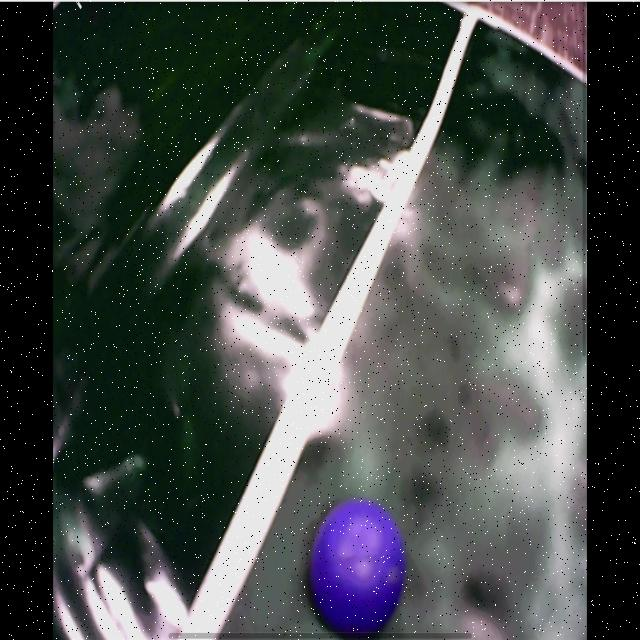ball: (311, 500, 406, 637)
